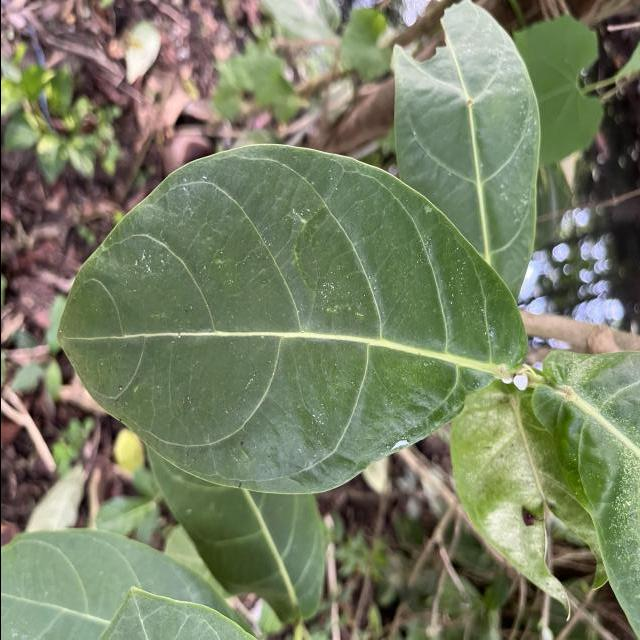Calotropis gigantea: (53, 138, 529, 498), (386, 0, 544, 303)
